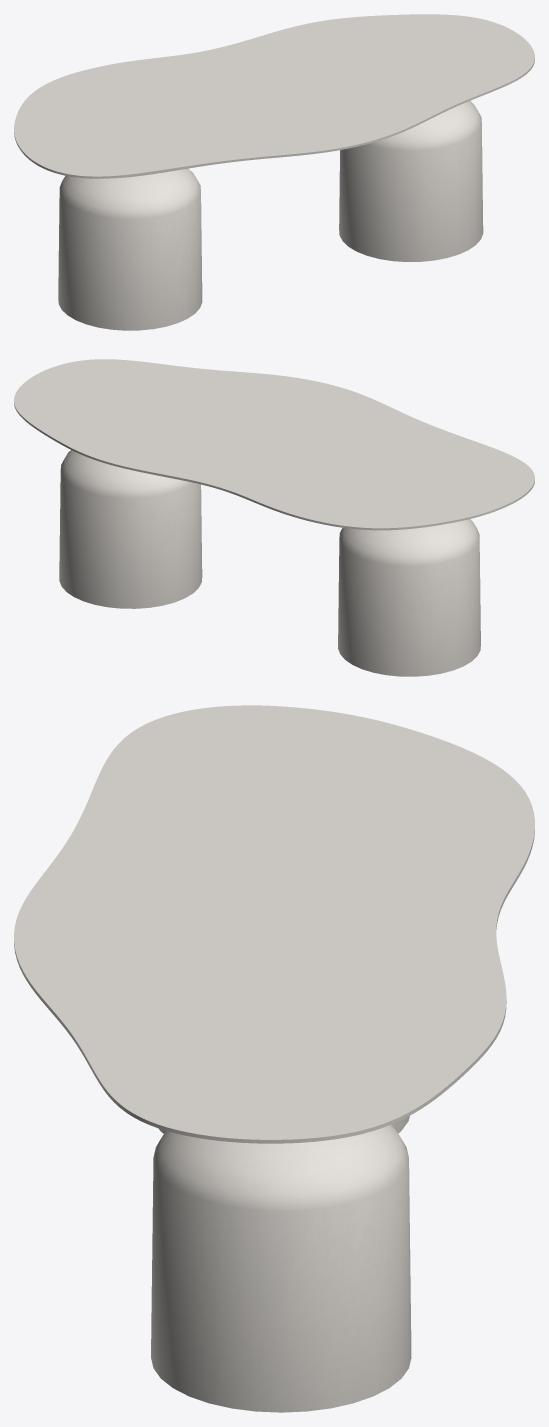
Rendered from pearlwhite_toplast_facet_tornado.glb.
3 views of the same model, one above another, from view 1: azimuth 30°, elevation 25°; view 2: azimuth 150°, elevation 25°; view 3: azimuth 270°, elevation 25° (orthographic). The views are drawn at different scales.
Visible parts, largest first — view 1: facet_toplast, tornado; view 2: facet_toplast, tornado; view 3: facet_toplast, tornado.
Part boxes in pixels (<box>): facet_toplast: <box>14,14,534,178</box>; tornado: <box>58,101,483,330</box>; facet_toplast: <box>14,359,534,530</box>; tornado: <box>59,450,480,676</box>; facet_toplast: <box>14,705,534,1143</box>; tornado: <box>151,1116,411,1412</box>.
Size of the model in its own units: 7.5 by 2.5 by 3.8.
Materials: 1 (1 with a texture image).
